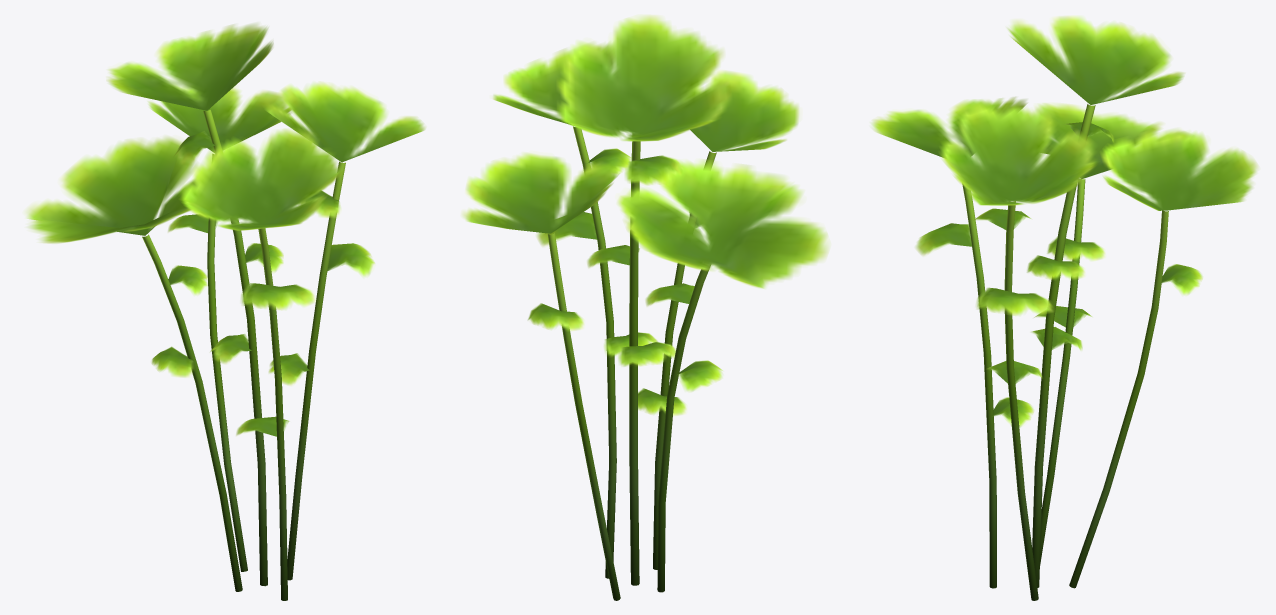
File: Clover.glb
The picture shows the model from 3 angles, left to right: view 1: azimuth 30°, elevation 25°; view 2: azimuth 150°, elevation 25°; view 3: azimuth 270°, elevation 25°; orthographic projection. The views are drawn at different scales.
Parts seen in each view (by area): view 1: Clover_2; view 2: Clover_2; view 3: Clover_2.
Part boxes in pixels (x1,y1,x2,y2): Clover_2: (26,23,425,600); Clover_2: (462,15,828,600); Clover_2: (871,16,1257,600).
Bounding box in the file's own units: 0.8511 × 1.26 × 0.8366.
1 material, 1 textured.
